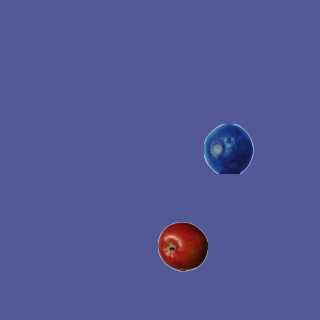Apple Braeburn: (157, 221, 207, 271)
Huckleberry: (203, 123, 253, 173)
